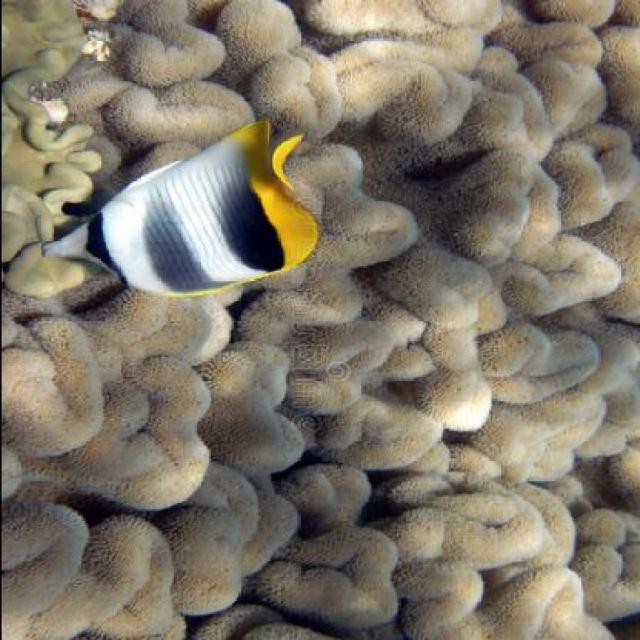ButterflyFish: (43, 121, 320, 298)
